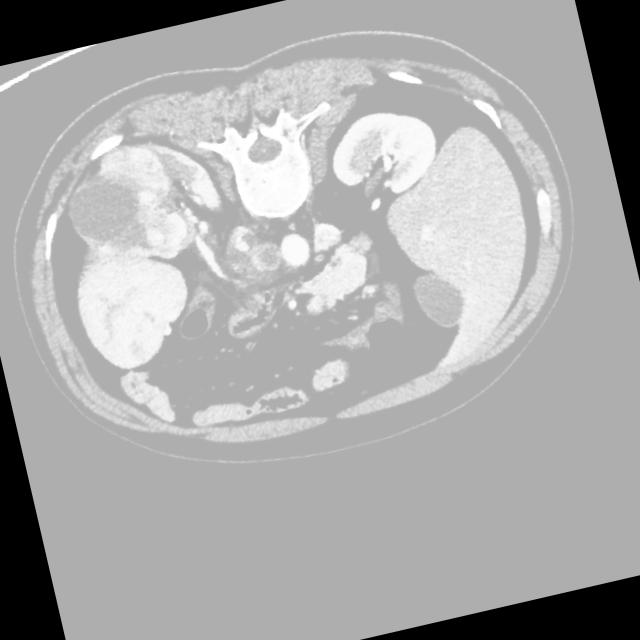TUMOR: (70, 67, 548, 430)
